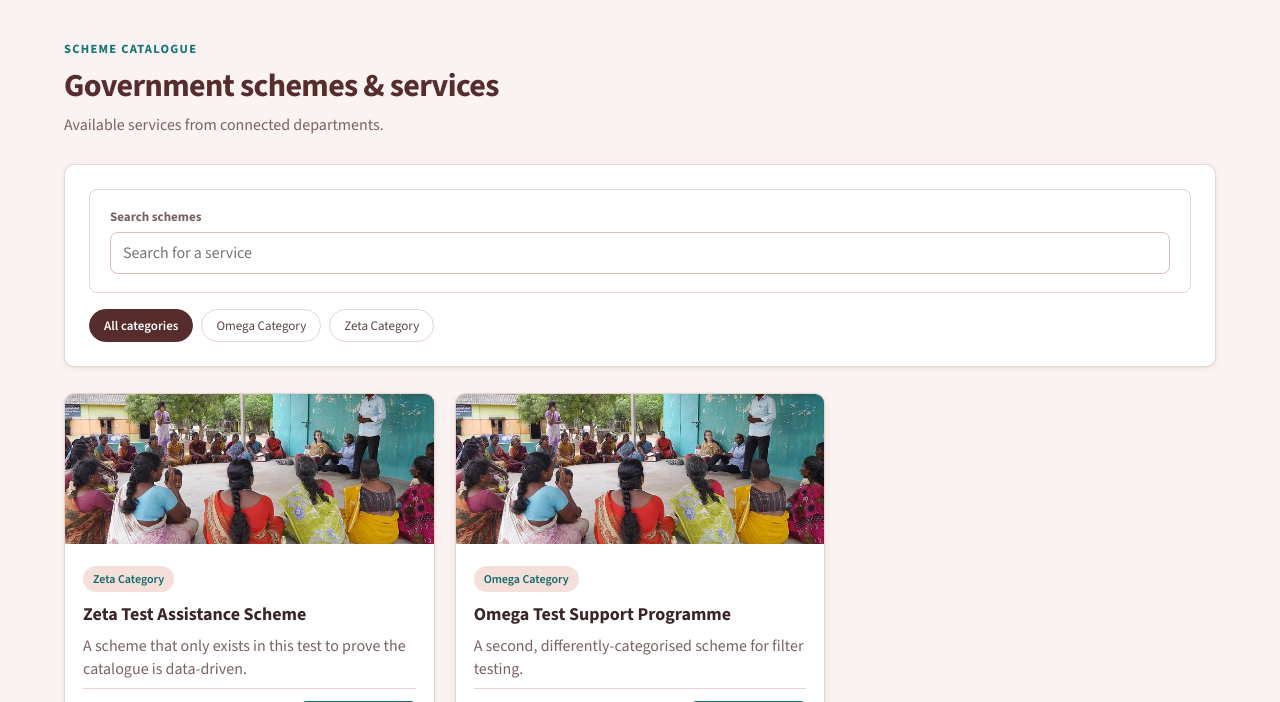
Scenario: SchemesPage › search filters operate on the provided data, not a hardcoded list (requirement 3)
The image size is (1280, 702).
Type "Omega" into the field labelled "Search schemes".
click(640, 253); type("Omega")  # box x1=110 y1=232 x2=1170 y2=274
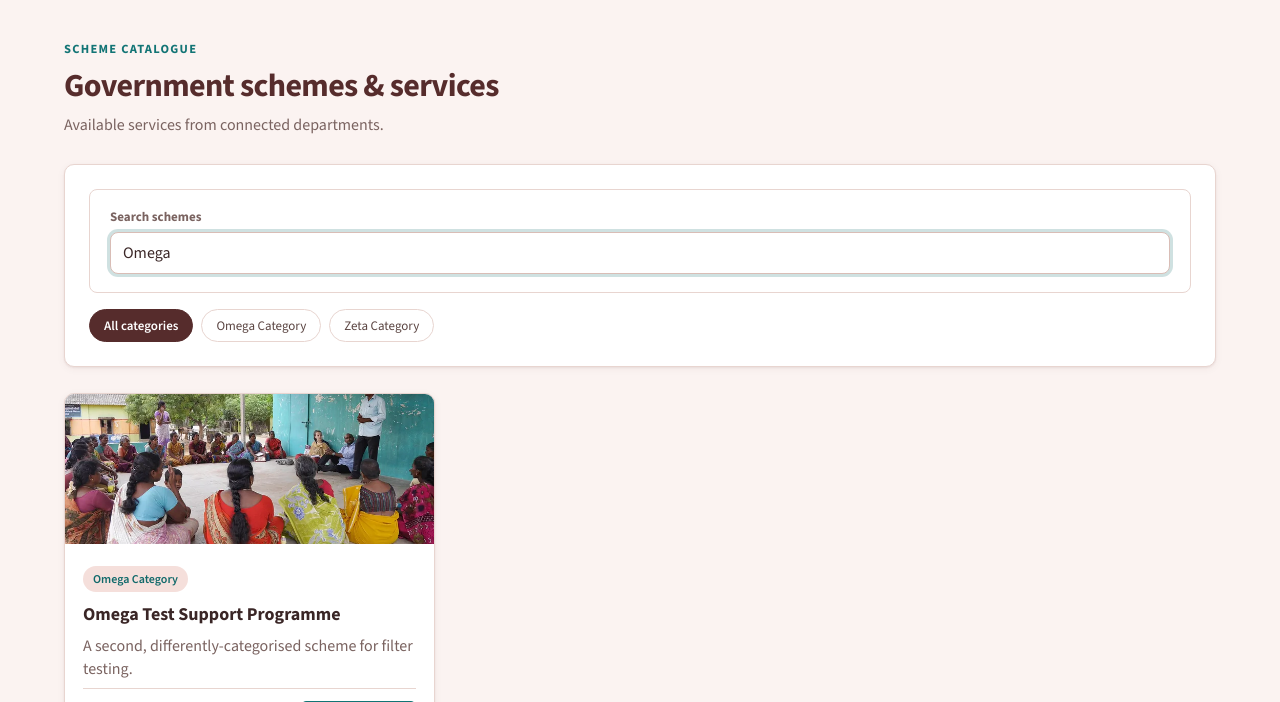
Expected: the heading "Omega Test Support Programme" is shown, x1=83 y1=602 x2=340 y2=626
Expected: the heading "Zeta Test Assistance Scheme" is gone
